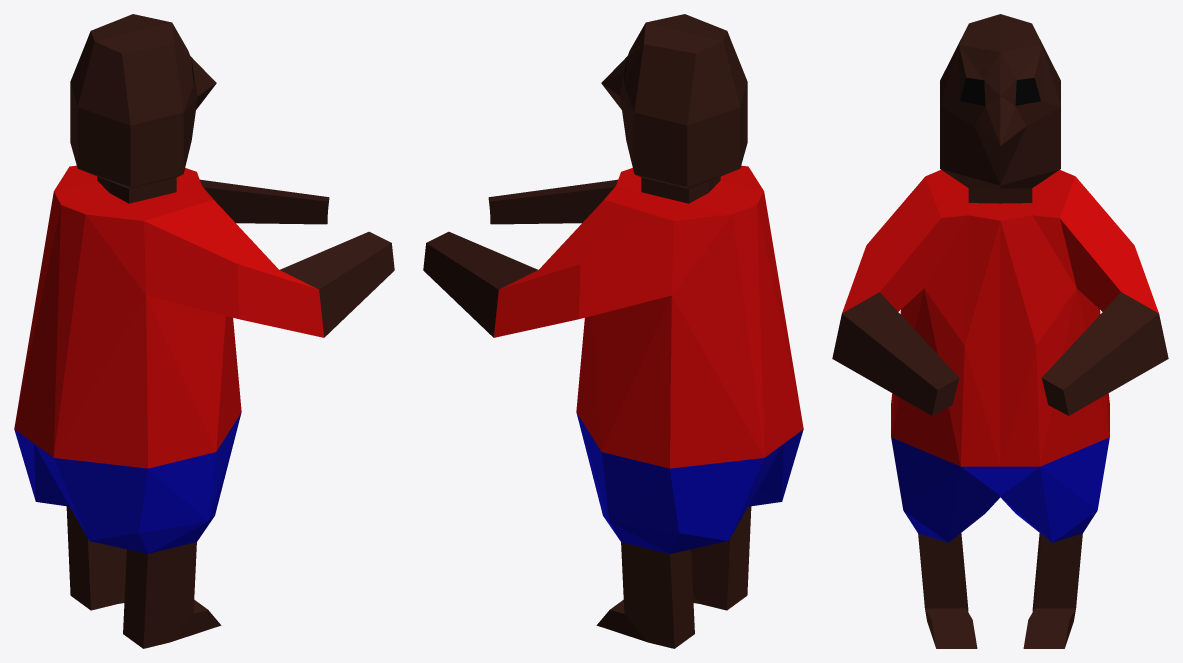
Rendered from player.obj.
3 views of the same model, side by side, from view 1: azimuth 30°, elevation 25°; view 2: azimuth 150°, elevation 25°; view 3: azimuth 270°, elevation 25° (orthographic).
Parts seen in each view (by area): view 1: Cube.001; view 2: Cube.001; view 3: Cube.001.
Boxes of the visible parts, x1,y1,x2,y2 form: Cube.001: [14, 14, 394, 648]; Cube.001: [423, 14, 803, 648]; Cube.001: [832, 14, 1168, 648].
Size of the model in its own units: 3.48 by 5.93 by 3.08.
